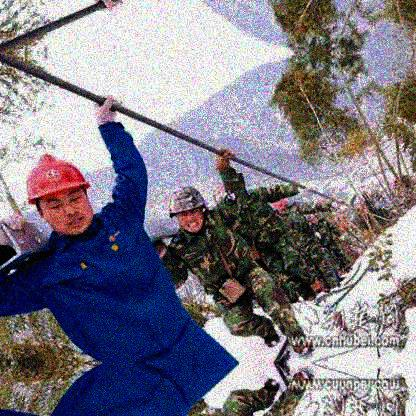helmet: (25, 154, 95, 242), (165, 186, 210, 236), (272, 199, 289, 216), (305, 214, 319, 226)
